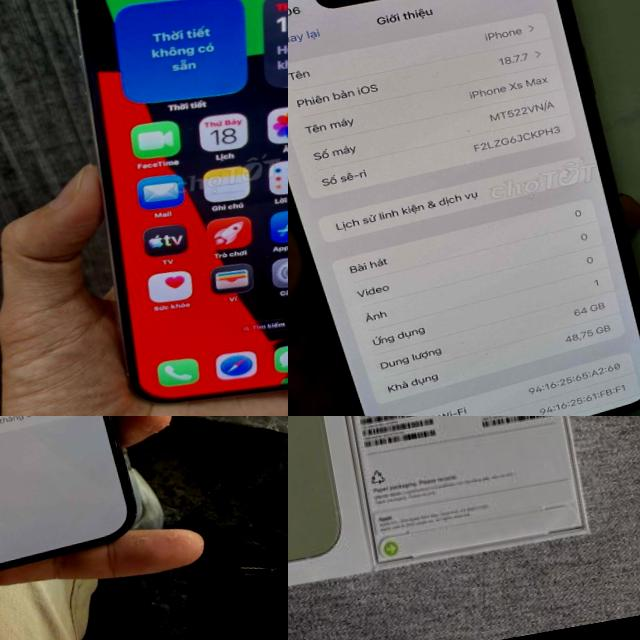scratch: (71, 416, 132, 459)
